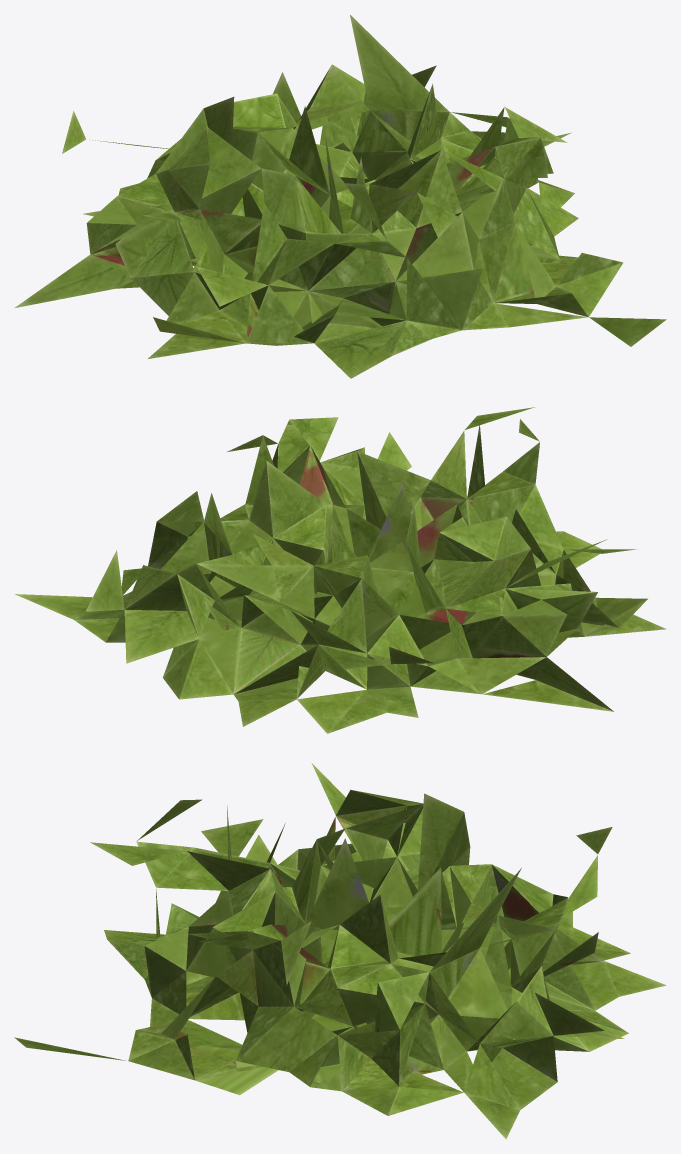
Rendered from ivyClump.glb.
3 renders of one model, top to bottom at view 1: azimuth 30°, elevation 25°; view 2: azimuth 150°, elevation 25°; view 3: azimuth 270°, elevation 25°, orthographic. The views are drawn at different scales.
Size of the model in its own units: 1.3 by 0.3668 by 1.22.
1 material, 1 textured.
